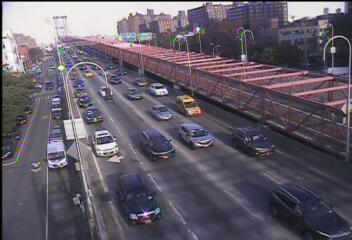neg: (69, 95, 102, 139), (192, 130, 224, 173), (122, 11, 153, 52), (21, 165, 51, 205), (19, 96, 47, 134), (47, 29, 74, 65), (78, 168, 104, 204), (253, 91, 279, 126), (309, 151, 333, 183), (138, 127, 160, 156), (104, 55, 125, 83), (196, 94, 215, 120), (146, 186, 164, 210), (230, 47, 247, 71), (245, 193, 262, 217)
